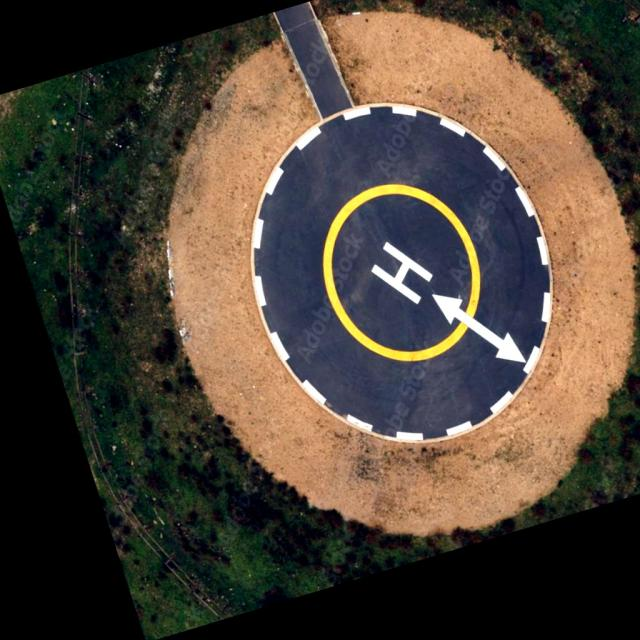helipad: (319, 178, 486, 362)
